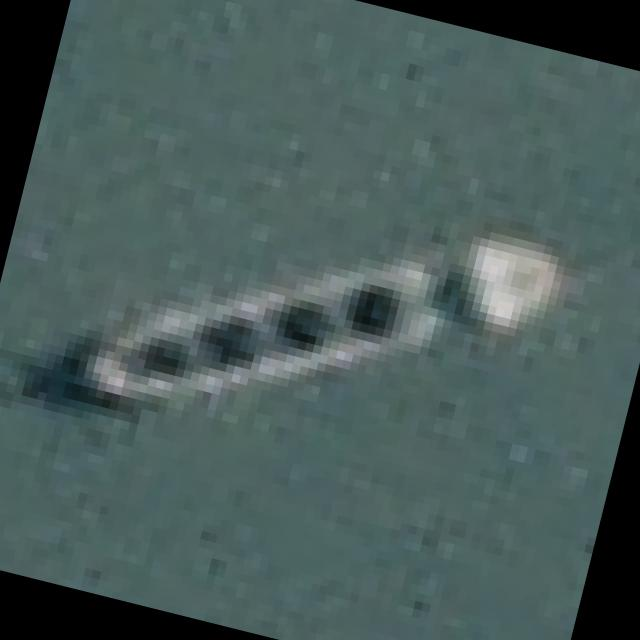ship: (0, 65, 604, 564)
